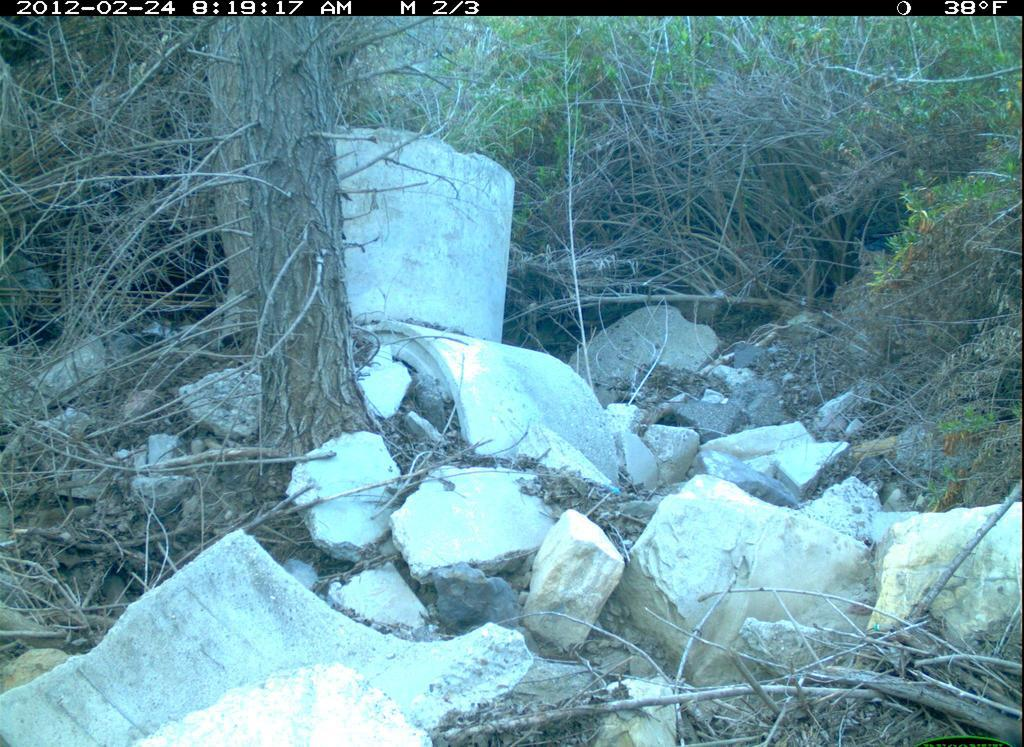coyote: (664, 287, 745, 331)
